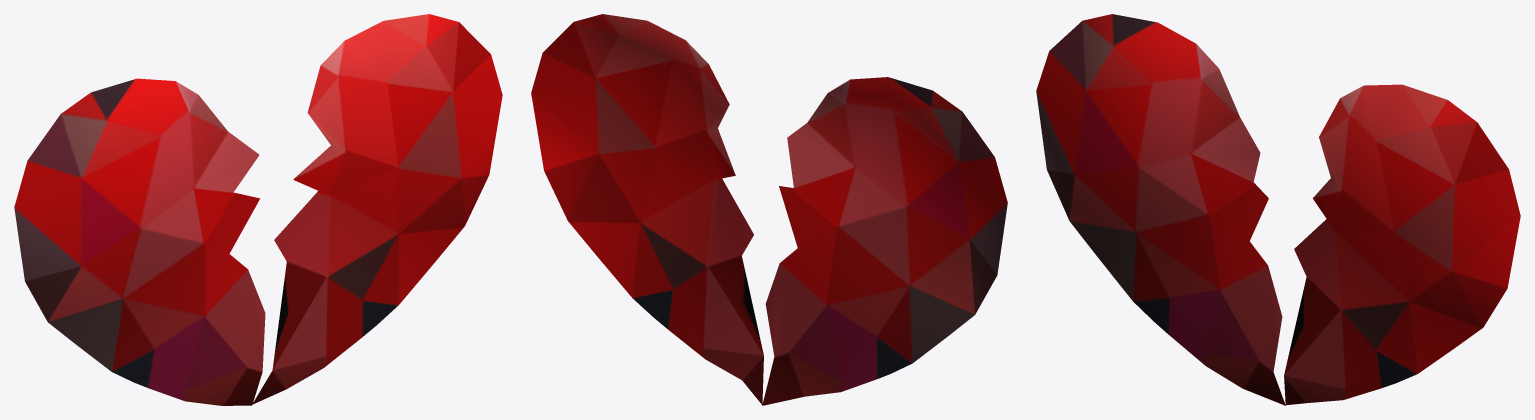
3 views of the same model, side by side, from view 1: azimuth 30°, elevation 25°; view 2: azimuth 150°, elevation 25°; view 3: azimuth 330°, elevation 25° (orthographic). The views are drawn at different scales.
Parts seen in each view (by area): view 1: heart_plane, heart_plane1; view 2: heart_plane, heart_plane1; view 3: heart_plane, heart_plane1.
Part boxes in pixels (x1=…): heart_plane: x1=14, y1=78, x2=265, y2=405; heart_plane1: x1=252, y1=14, x2=502, y2=404; heart_plane: x1=762, y1=77, x2=1007, y2=405; heart_plane1: x1=531, y1=14, x2=763, y2=404; heart_plane: x1=1036, y1=14, x2=1285, y2=405; heart_plane1: x1=1284, y1=84, x2=1520, y2=405.
Bounding box in the file's own units: 11.63 × 8.23 × 0.9043.
Materials: 1 (1 with a texture image).
